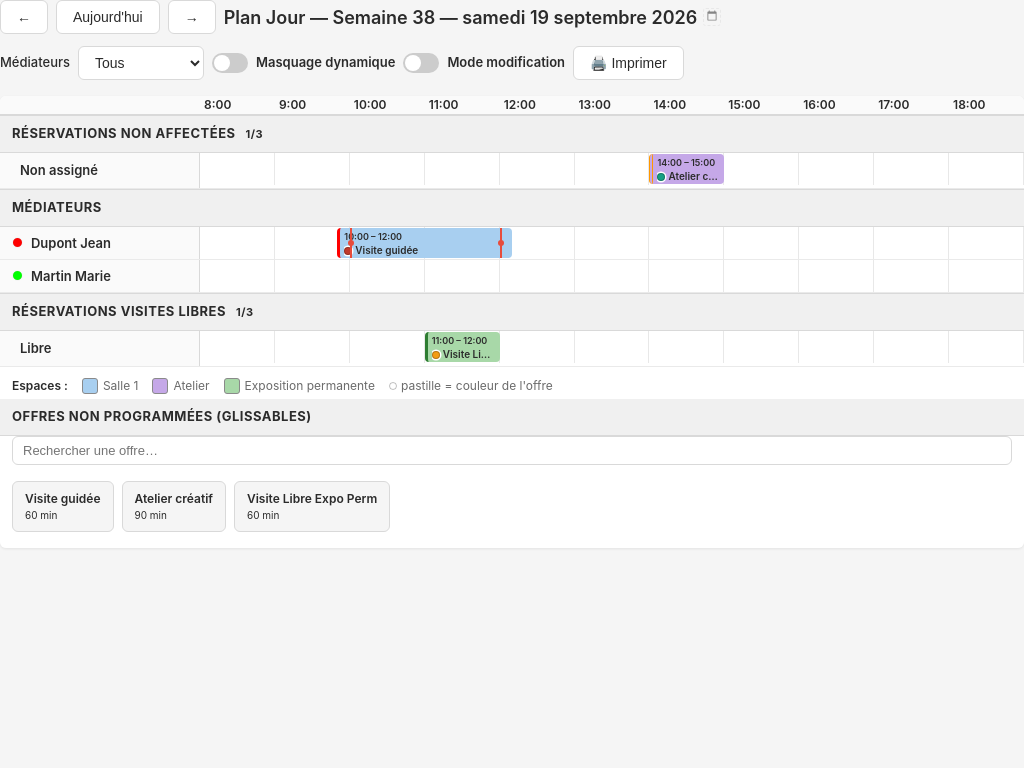
DailyView › should open slot modal with mediatorOnly=false when clicking a slot
Click the 1st element with class "daily-slot" at (687, 168), box [650,154,724,184]
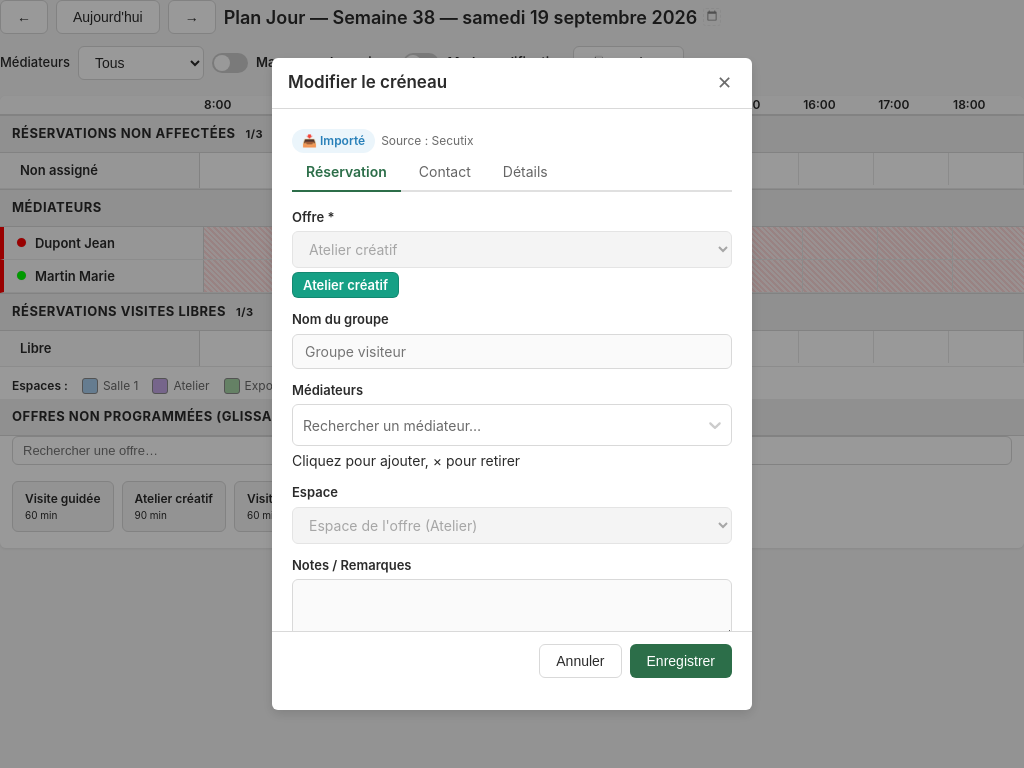
Expected: the heading "Modifier le créneau" is shown, [288,70,447,95]
